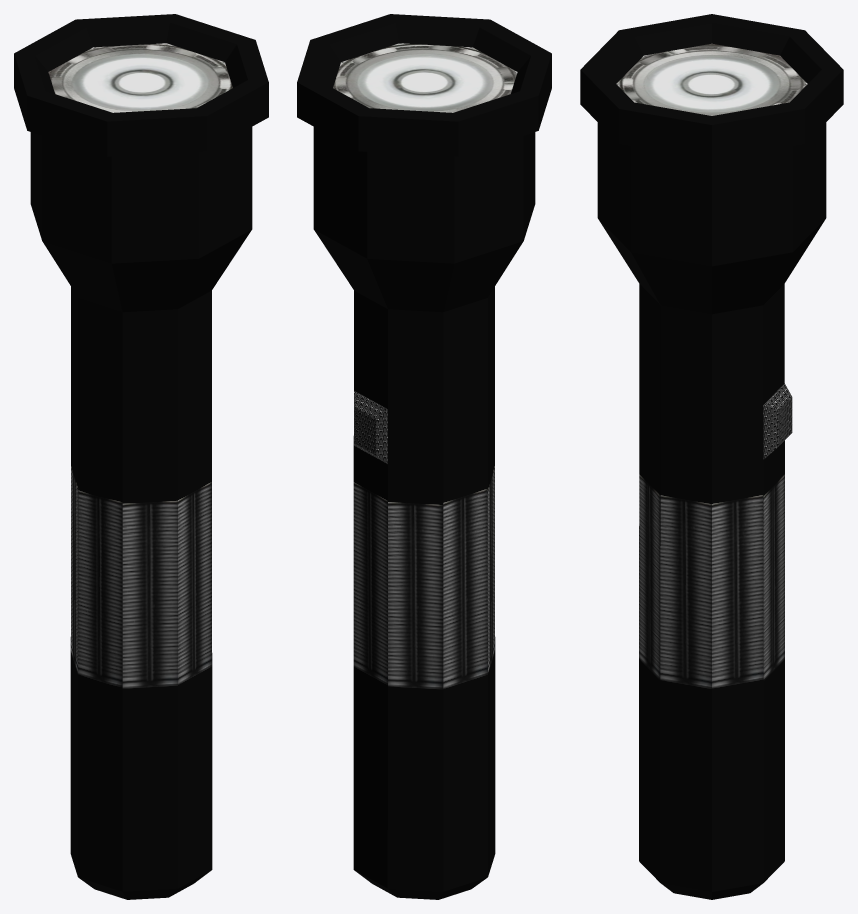
Rendered from Flashlight.fbx.
The picture shows the model from 3 angles, left to right: view 1: azimuth 30°, elevation 25°; view 2: azimuth 150°, elevation 25°; view 3: azimuth 270°, elevation 25°; orthographic projection.
Parts seen in each view (by area): view 1: Cylinder; view 2: Cylinder; view 3: Cylinder.
Boxes of the visible parts, x1,y1,x2,y2 form: Cylinder: (14, 14, 268, 899); Cylinder: (297, 14, 551, 899); Cylinder: (580, 14, 843, 899).
Size of the model in its own units: 139 by 470 by 139.
1 material, 1 textured.
